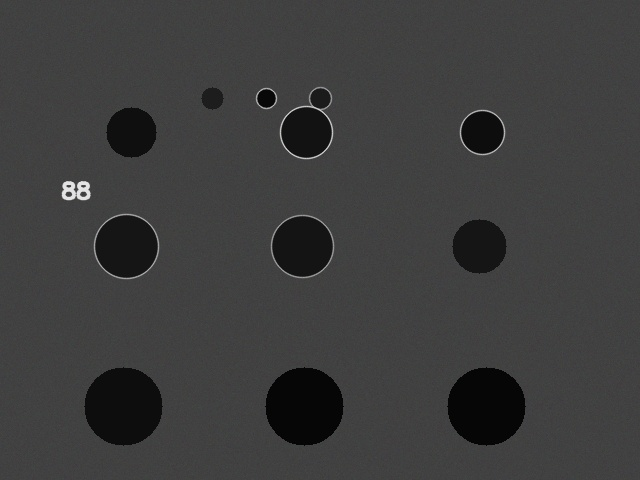hole: (84, 367, 162, 445), (265, 367, 343, 445), (447, 367, 525, 445), (94, 214, 158, 278), (271, 215, 333, 277), (452, 219, 506, 273), (280, 106, 332, 158), (106, 107, 156, 157), (460, 110, 504, 154), (201, 87, 223, 109), (309, 87, 331, 109), (256, 88, 276, 108)
